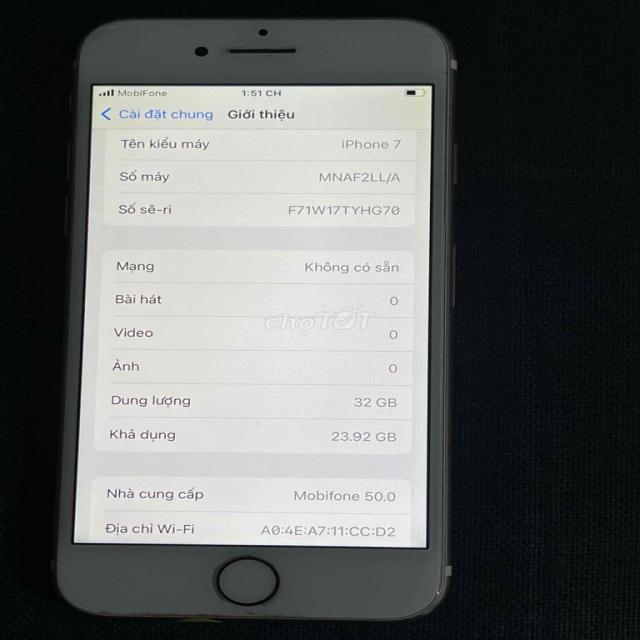gen_7_8: (56, 15, 466, 635)
